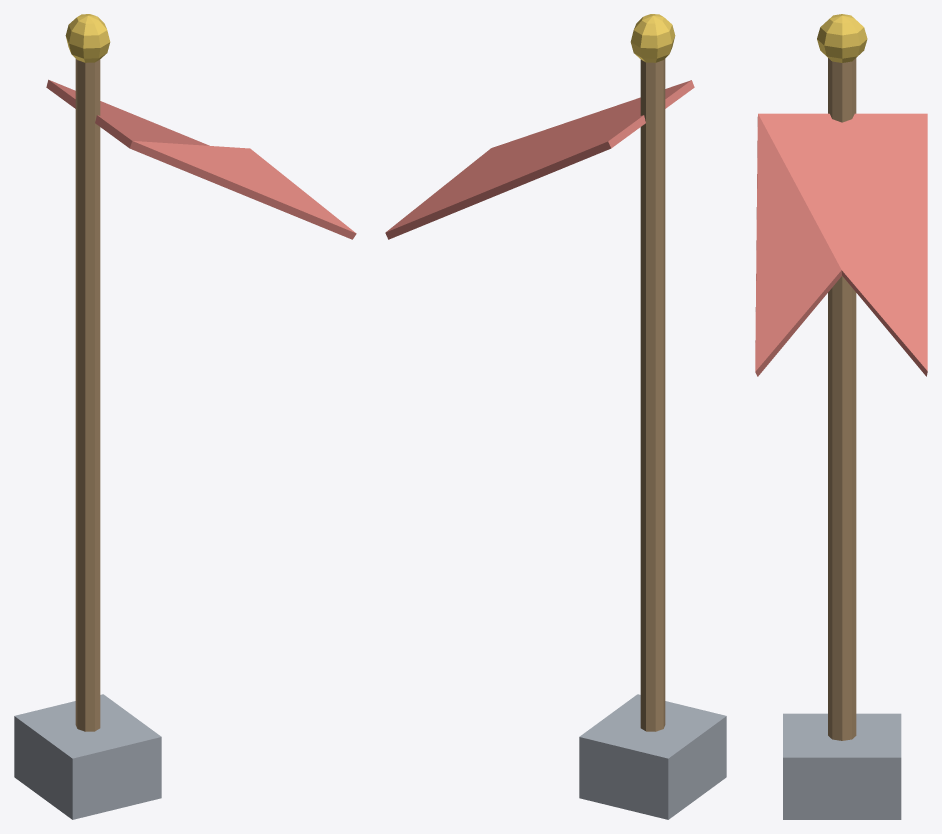
The model's file is flag.glb.
3 views of the same model, side by side, from view 1: azimuth 30°, elevation 25°; view 2: azimuth 150°, elevation 25°; view 3: azimuth 270°, elevation 25° (orthographic).
Visible parts, largest first — view 1: FlagPole, FlagBase, FlagCloth, FlagFinial; view 2: FlagPole, FlagBase, FlagCloth, FlagFinial; view 3: FlagCloth, FlagPole, FlagBase, FlagFinial.
Boxes of the visible parts, x1,y1,x2,y2 form: FlagPole: (75, 59, 100, 731); FlagBase: (14, 694, 161, 819); FlagCloth: (46, 79, 356, 239); FlagFinial: (65, 14, 110, 62); FlagPole: (640, 59, 665, 731); FlagBase: (579, 694, 726, 819); FlagCloth: (385, 80, 694, 239); FlagFinial: (630, 14, 675, 62); FlagCloth: (755, 113, 927, 376); FlagPole: (828, 58, 856, 740); FlagBase: (783, 713, 901, 819); FlagFinial: (817, 14, 867, 62).
Bounding box in the file's own units: 1.1 × 3 × 0.6.
